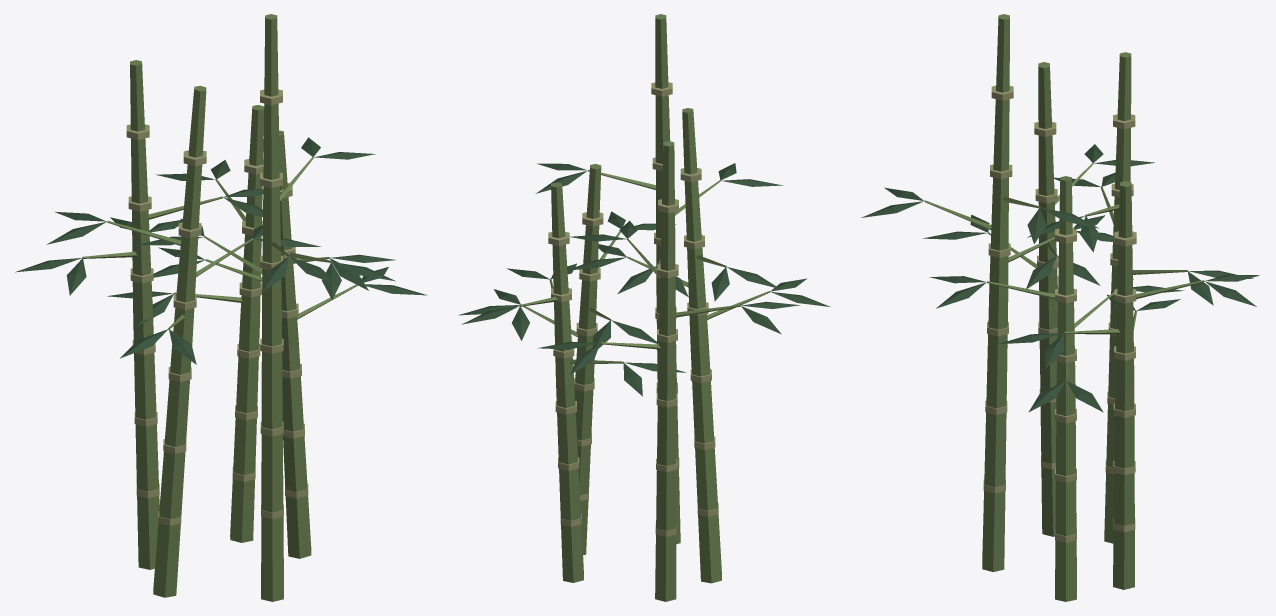
The model's file is Plant_Feature_Forest_BambooGrove_001_LOD1.glb.
The picture shows the model from 3 angles, left to right: view 1: azimuth 30°, elevation 25°; view 2: azimuth 150°, elevation 25°; view 3: azimuth 270°, elevation 25°; orthographic projection. The views are drawn at different scales.
Visible parts, largest first — view 1: Plant_Feature_Forest_BambooGrove_001_LOD1; view 2: Plant_Feature_Forest_BambooGrove_001_LOD1; view 3: Plant_Feature_Forest_BambooGrove_001_LOD1.
Boxes of the visible parts, <box> form: Plant_Feature_Forest_BambooGrove_001_LOD1: <box>15,14,427,601</box>; Plant_Feature_Forest_BambooGrove_001_LOD1: <box>458,14,830,601</box>; Plant_Feature_Forest_BambooGrove_001_LOD1: <box>861,14,1259,601</box>.
Size of the model in its own units: 3.32 by 5.01 by 3.29.
